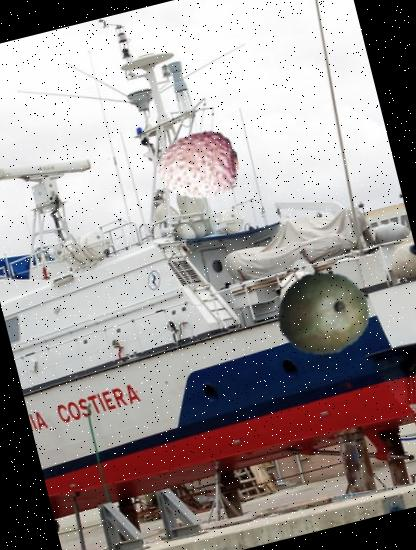Lychee: (149, 116, 247, 214)
Mango: (268, 258, 378, 368)
